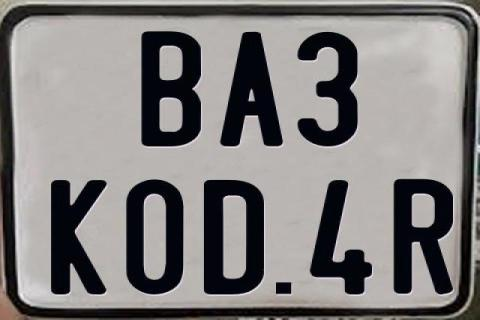0: (295, 32, 360, 150), (308, 179, 374, 295), (126, 177, 186, 293)
A: (218, 31, 283, 151)
B: (138, 31, 199, 149)
D: (202, 180, 262, 298)
K: (50, 180, 106, 296)
R: (393, 178, 454, 294)
